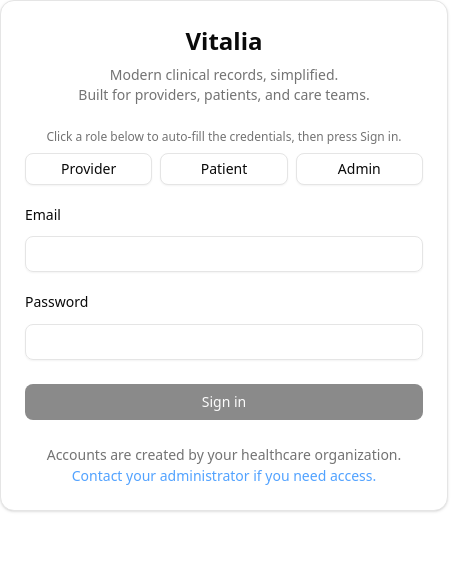
Scenario: LoginForm error state › shows error message when login fails
The image size is (465, 561).
Step 1. Type "testtest.com" into the field labelled "Email" → (224, 254), box left=25, top=236, right=423, bottom=272
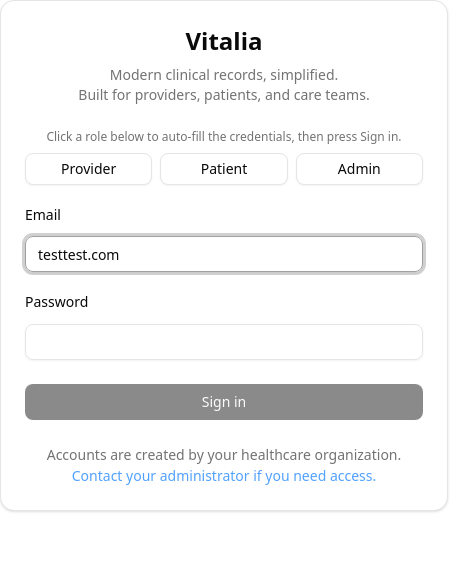
Step 2. Type "zxcv1234" into the password field labelled "Password" → (224, 342), box left=25, top=324, right=423, bottom=360
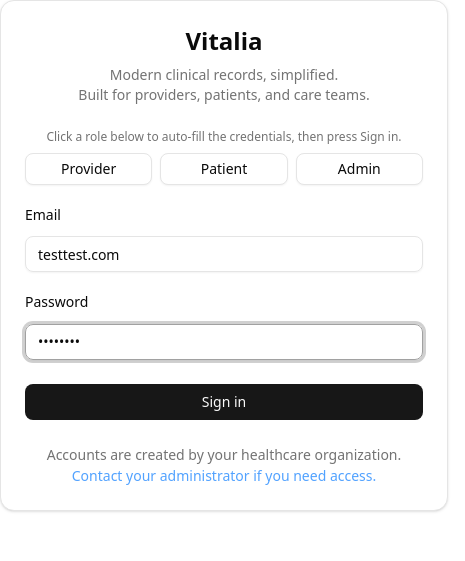
Step 3. Click the button "Sign in" → (224, 402), box left=25, top=384, right=423, bottom=420
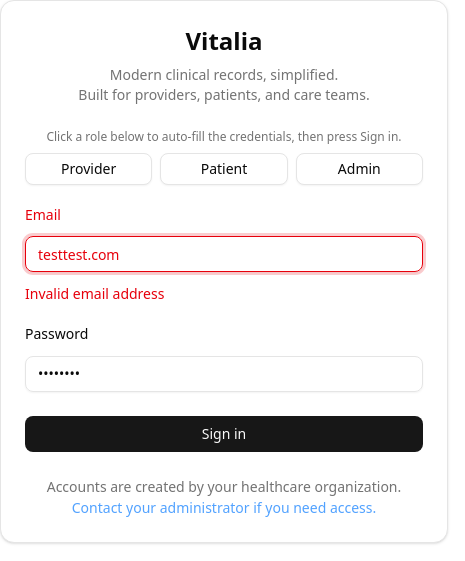
Expected: the message reads "Invalid email address", left=25, top=284, right=164, bottom=303
